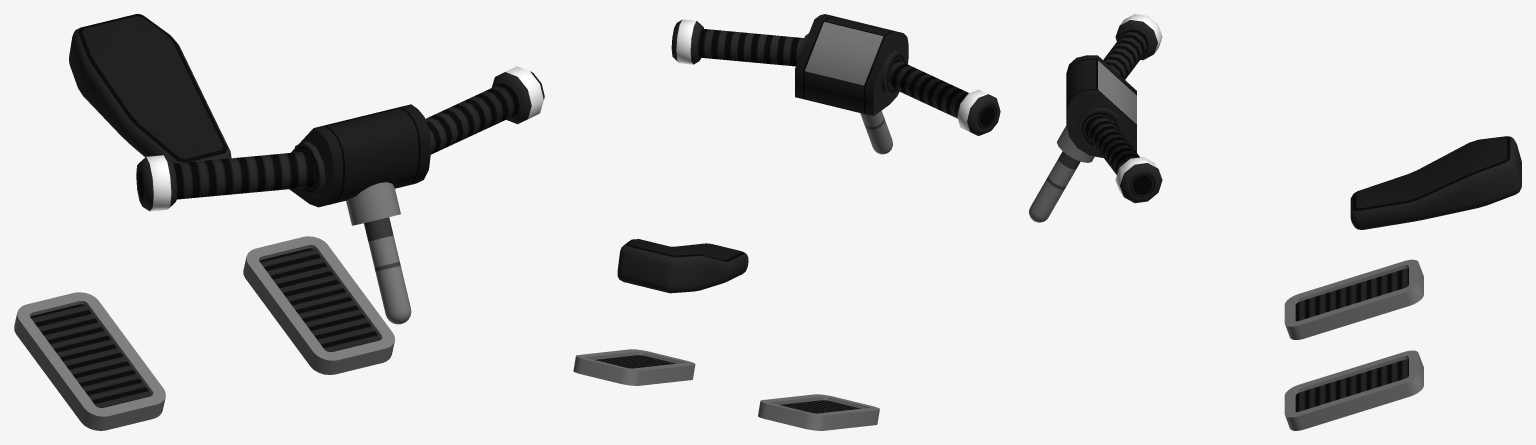
File: seat visualizer 2.fbx
3 renders of one model, left to right at view 1: azimuth 30°, elevation 25°; view 2: azimuth 150°, elevation 25°; view 3: azimuth 270°, elevation 25°, orthographic. The views are drawn at different scales.
Visible parts, largest first — view 1: Simple Bike.002; view 2: Simple Bike.002; view 3: Simple Bike.002.
Part boxes in pixels (left/top/right/bottom): Simple Bike.002: left=14, top=14, right=544, bottom=430; Simple Bike.002: left=573, top=14, right=1000, bottom=430; Simple Bike.002: left=1029, top=14, right=1521, bottom=430.
Bounding box in the file's own units: 50.09 × 44 × 65.95.
